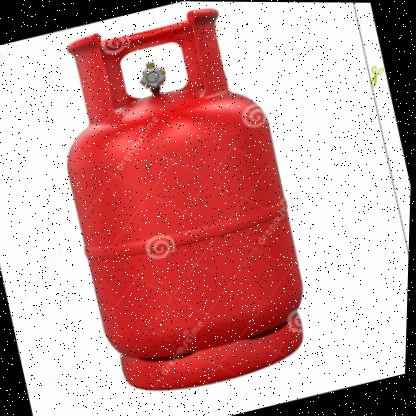gas-tank: (16, 0, 342, 414)
